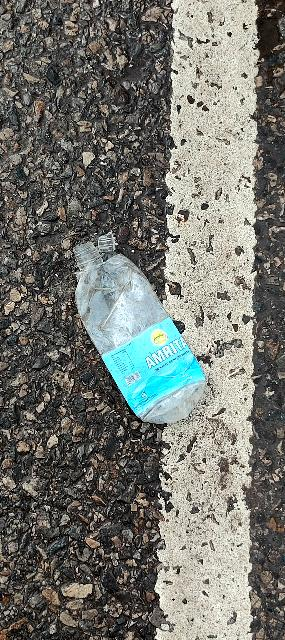bottle: (51, 236, 223, 422)
